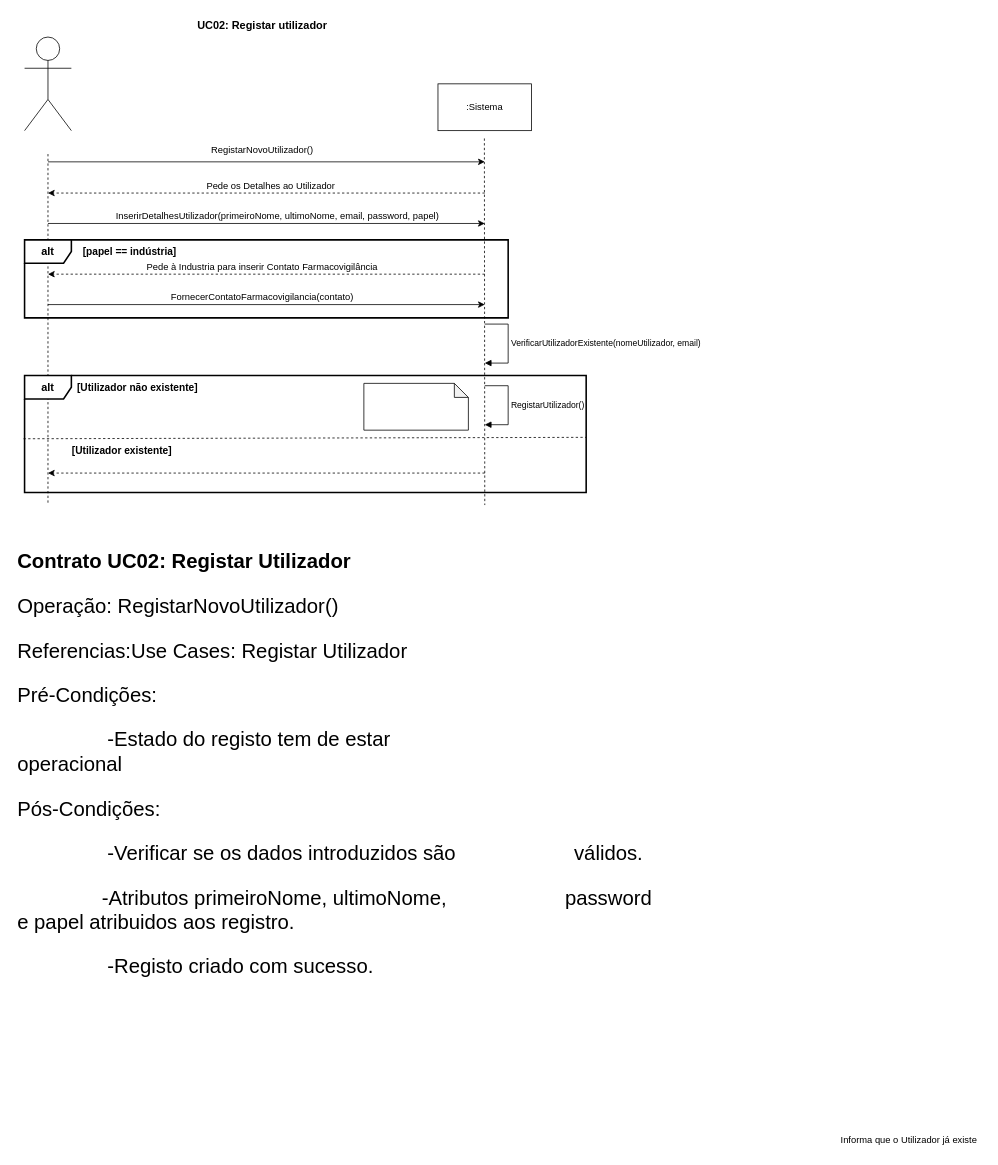
The diagram is 998 pixels wide and 1165 high, and some of its shapes have lost their labels. Here are the shapes that lost their labels. From the top down, the centre of each, then its label:
At pixel 47 83: ":Administrador".
At pixel 415 406: "O utilizador é registado e o caso de uso termina".
